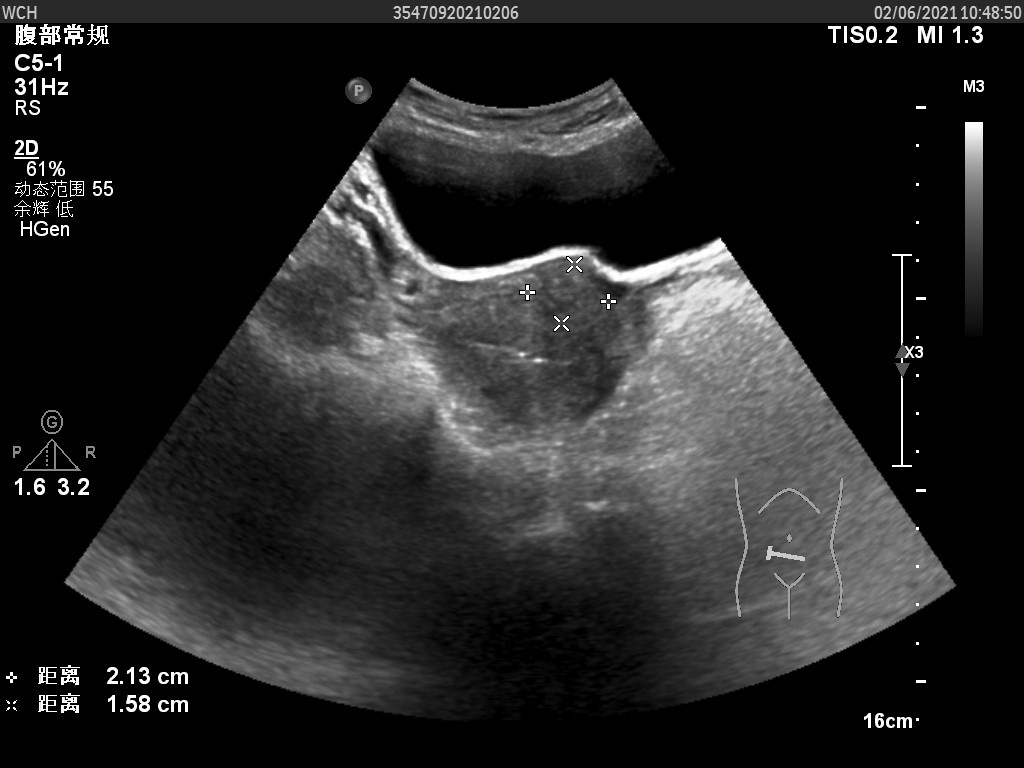肌瘤: (527, 266, 609, 327)
